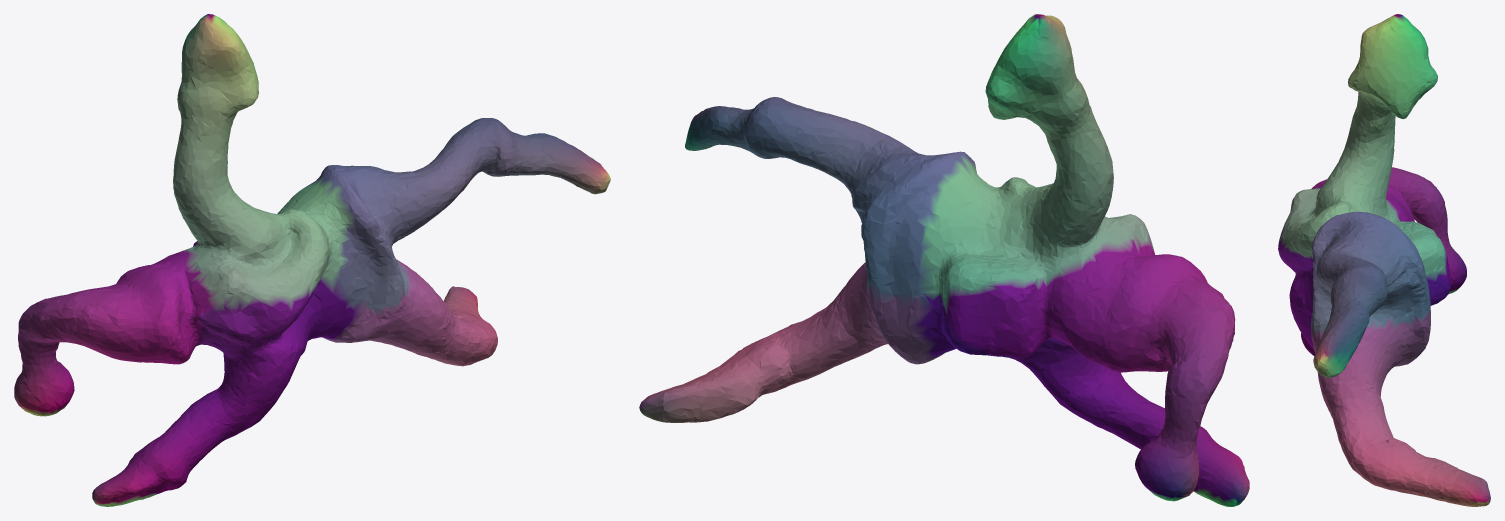
Rendered from santa-3.off.obj.
3 views of the same model, side by side, from view 1: azimuth 30°, elevation 25°; view 2: azimuth 150°, elevation 25°; view 3: azimuth 270°, elevation 25° (orthographic). The views are drawn at different scales.
Bounding box in the file's own units: 1.53 × 1.2 × 0.5949.
